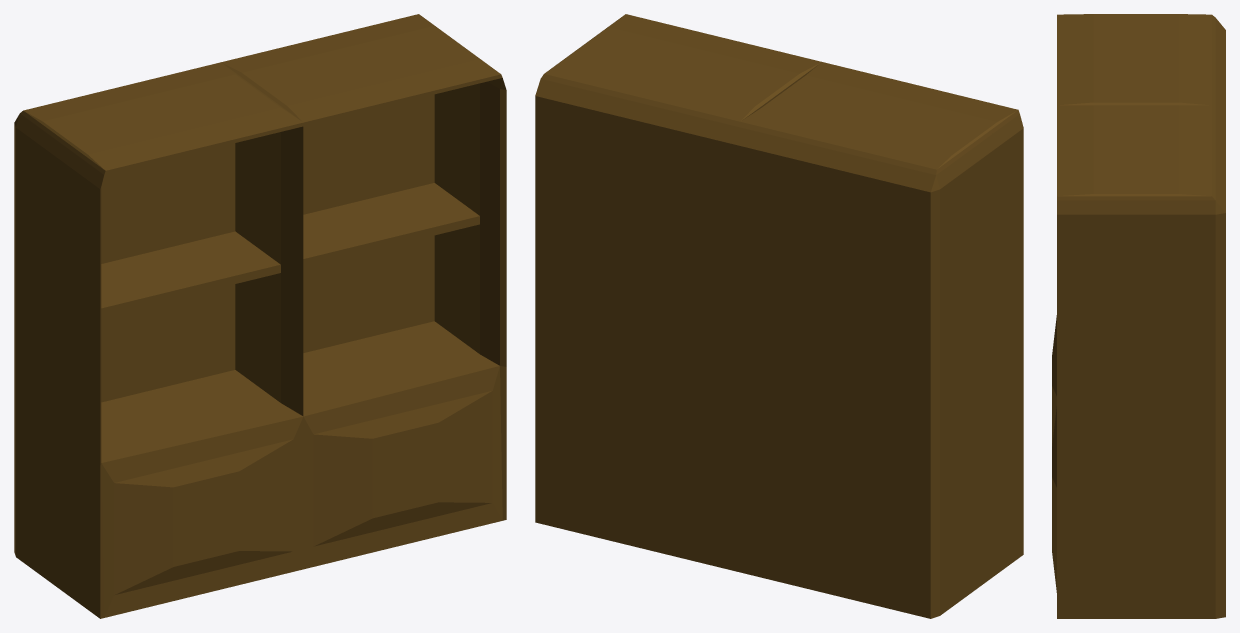
The model's file is Bookshelf.fbx.
3 views of the same model, side by side, from view 1: azimuth 30°, elevation 25°; view 2: azimuth 150°, elevation 25°; view 3: azimuth 270°, elevation 25° (orthographic). The views are drawn at different scales.
Parts seen in each view (by area): view 1: Cube; view 2: Cube; view 3: Cube.
Boxes of the visible parts, x1=… form: Cube: x1=14, y1=14, x2=506, y2=618; Cube: x1=535, y1=14, x2=1023, y2=618; Cube: x1=1052, y1=14, x2=1225, y2=618.
Size of the model in its own units: 556 by 586 by 219.
